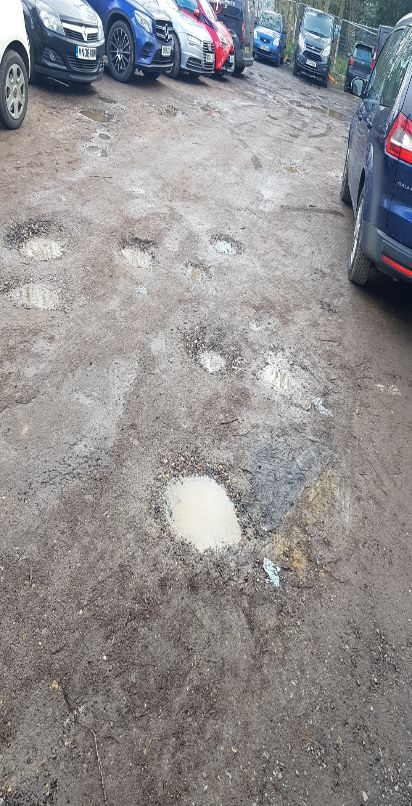pothole: (150, 449, 249, 555), (0, 266, 80, 314), (1, 218, 76, 265), (185, 327, 240, 377), (116, 233, 164, 270), (208, 233, 242, 255)
